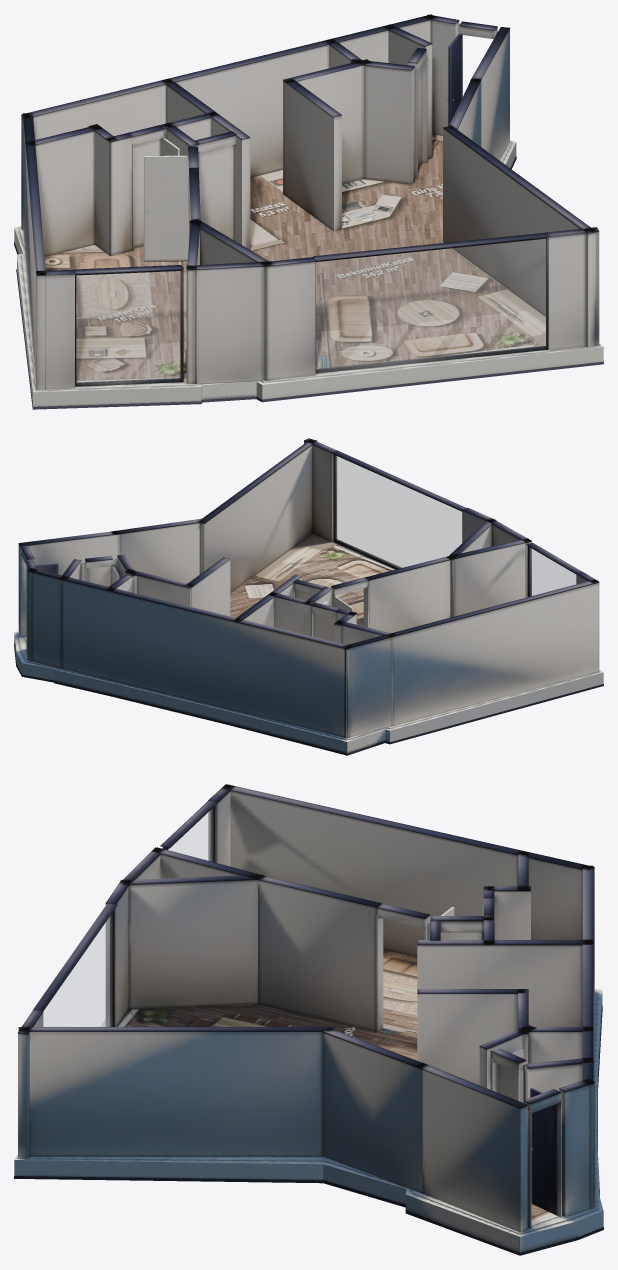
3 renders of one model, top to bottom at view 1: azimuth 30°, elevation 25°; view 2: azimuth 150°, elevation 25°; view 3: azimuth 270°, elevation 25°, orthographic. The views are drawn at different scales.
Visible parts, largest first — view 1: plan, glass1_m, glass0_m; view 2: plan, glass1_m, glass0_m; view 3: plan, glass1_m, glass0_m.
Part boxes in pixels (x1,y1,x2,y2): plan: [14, 14, 603, 409]; glass1_m: [316, 239, 546, 369]; glass0_m: [76, 271, 180, 382]; plan: [14, 438, 603, 755]; glass1_m: [336, 456, 461, 567]; glass0_m: [530, 548, 575, 595]; plan: [14, 784, 603, 1255]; glass1_m: [43, 914, 111, 1026]; glass0_m: [168, 809, 212, 861].
Bounding box in the file's own units: 12.82 × 2.62 × 9.7.
Materials: 2 (1 with a texture image).
